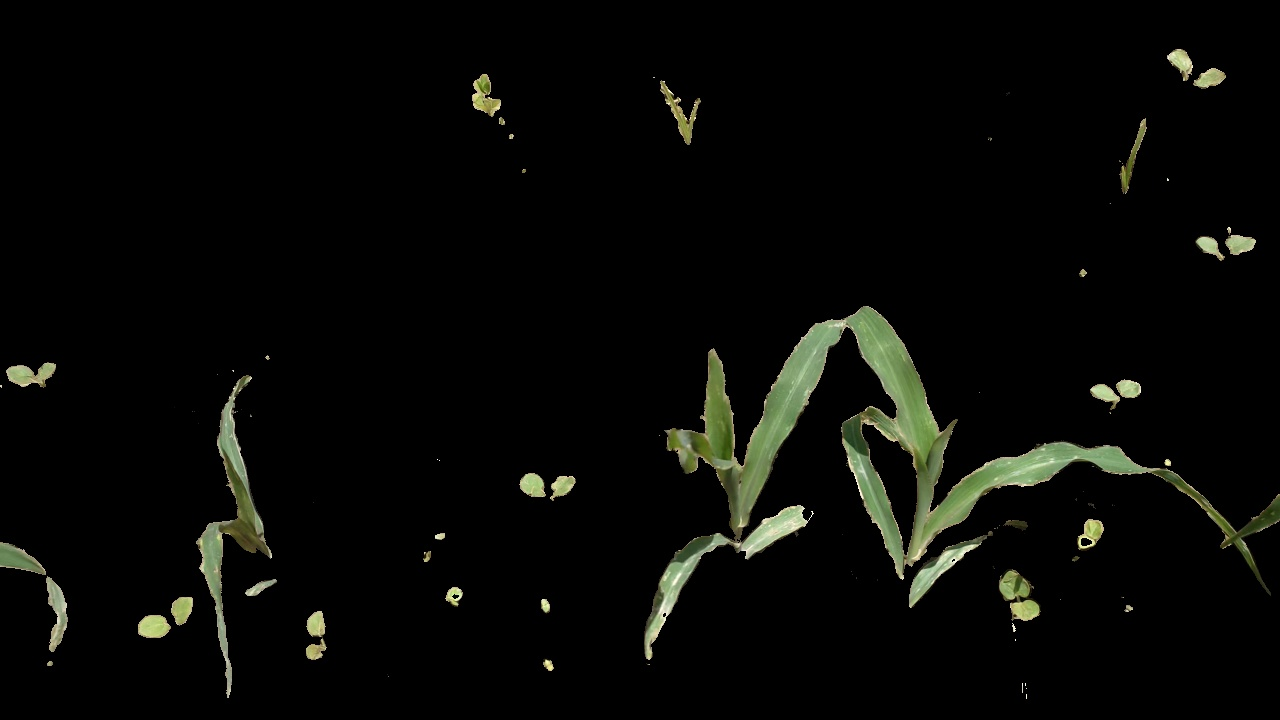crop: (831, 301, 1267, 605), (628, 292, 841, 662), (192, 371, 276, 703)
weed: (653, 71, 714, 146), (1104, 120, 1162, 197), (1160, 39, 1234, 97), (515, 453, 588, 511), (122, 594, 205, 637), (1193, 217, 1254, 275), (467, 74, 520, 130), (295, 601, 331, 662), (1005, 566, 1040, 621), (1082, 377, 1147, 404), (5, 359, 56, 387), (435, 582, 465, 611), (1078, 524, 1105, 550)
